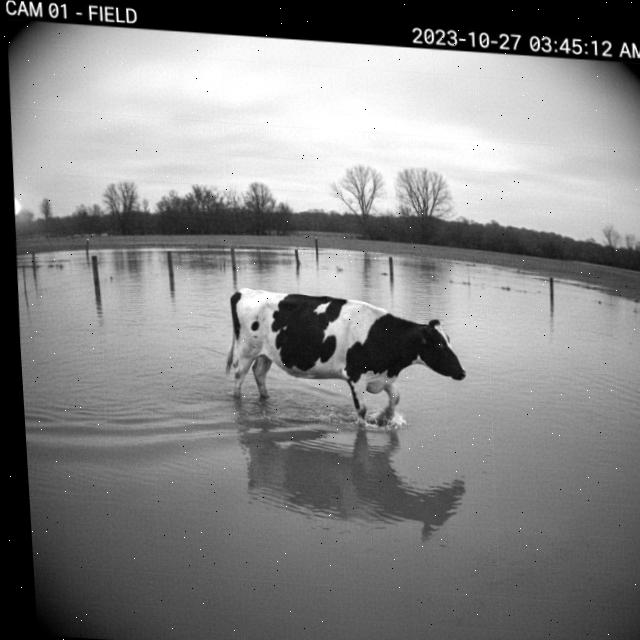cow: (210, 269, 485, 444)
